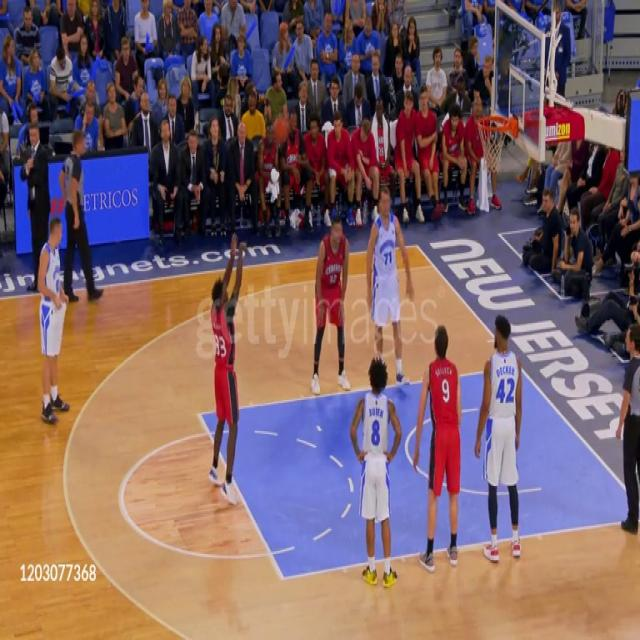ball: (272, 116, 288, 145)
